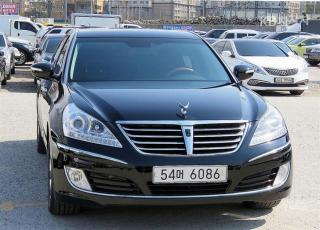0: (197, 168, 205, 181)
4: (168, 168, 176, 183)
5: (159, 168, 168, 182)
6: (189, 168, 198, 181), (213, 167, 220, 180)
8: (205, 168, 213, 180)
plate: (147, 161, 230, 187)
머: (176, 168, 185, 181)
